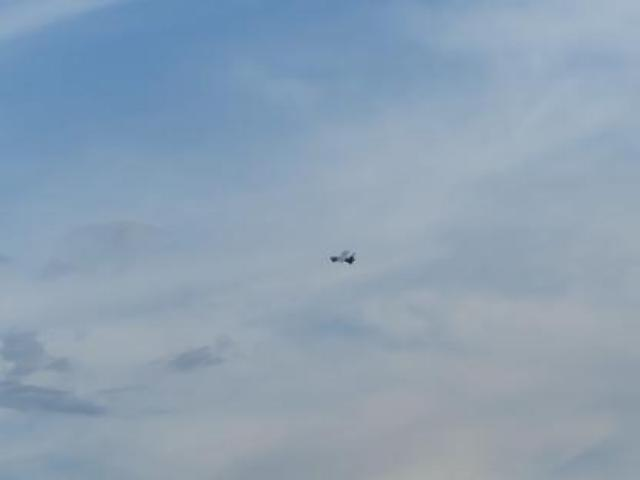uav: (330, 250, 356, 267)
